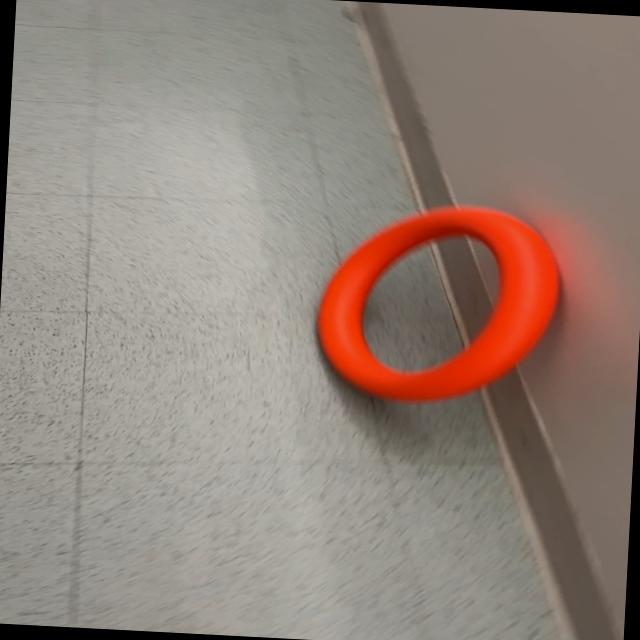note: (309, 196, 566, 411)
